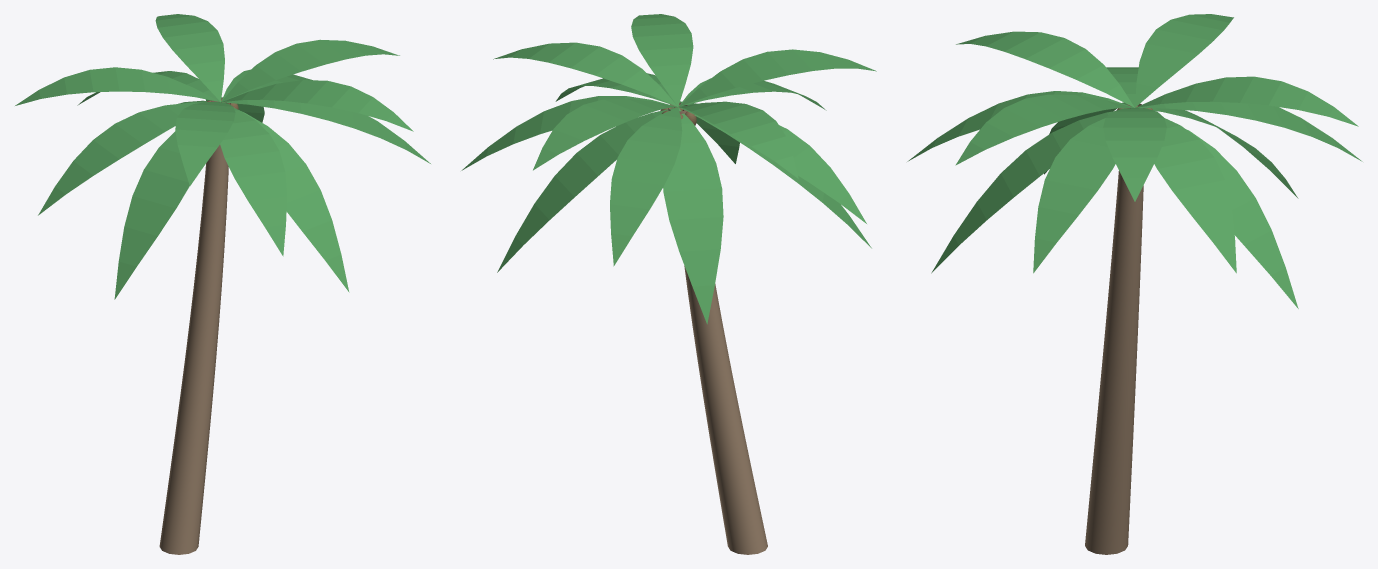
Rendered from palm_tree.glb.
The picture shows the model from 3 angles, left to right: view 1: azimuth 30°, elevation 25°; view 2: azimuth 150°, elevation 25°; view 3: azimuth 270°, elevation 25°; orthographic projection. The views are drawn at different scales.
Visible parts, largest first — view 1: Fronds, Trunk; view 2: Fronds, Trunk; view 3: Fronds, Trunk.
Part boxes in pixels (x1=…): Fronds: x1=15, y1=14, x2=430, y2=299; Trunk: x1=159, y1=98, x2=230, y2=554; Fronds: x1=461, y1=14, x2=876, y2=324; Trunk: x1=668, y1=103, x2=767, y2=554; Fronds: x1=907, y1=14, x2=1362, y2=308; Trunk: x1=1085, y1=104, x2=1143, y2=554.
Size of the model in its own units: 9.46 by 11.15 by 9.31.
